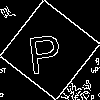P: (25, 25, 64, 75)
